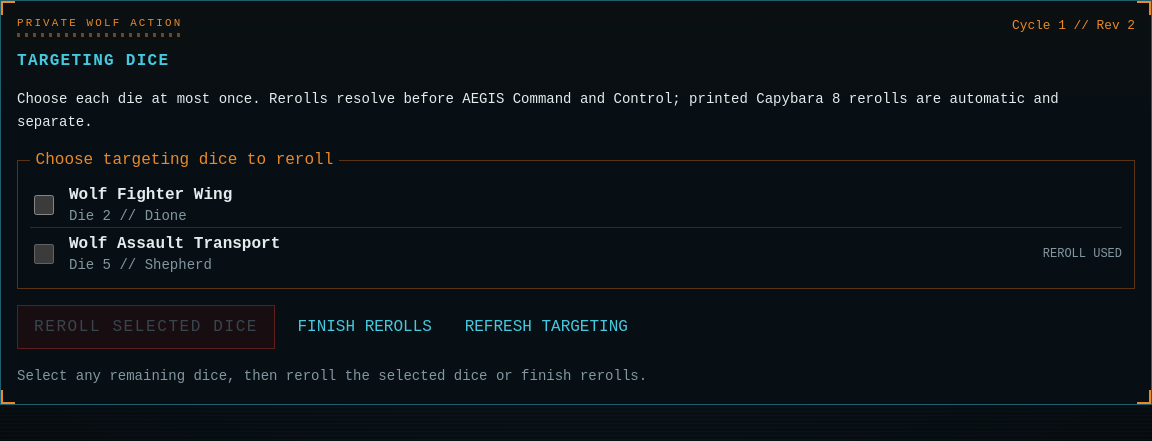
Test: shows current dice, keeps used dice disabled, and submits only selected indexes
Expected: the heading "Targeting dice" is shown, 17,51 -> 182,72
Expected: the text "Die 2 // Dione" is shown, 69,208 -> 187,224
Step 1. Click the checkbox labelled "Wolf Fighter Wing Die 2 // Dione" → point(44, 205), box 34,195 -> 54,215
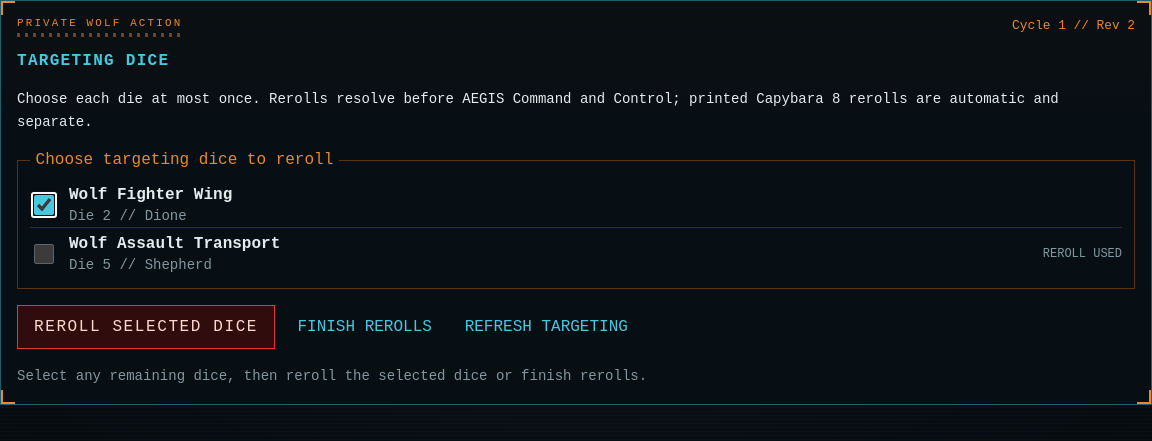
Step 2. Click the button "Reroll selected dice" → point(146, 327), box 17,305 -> 275,349
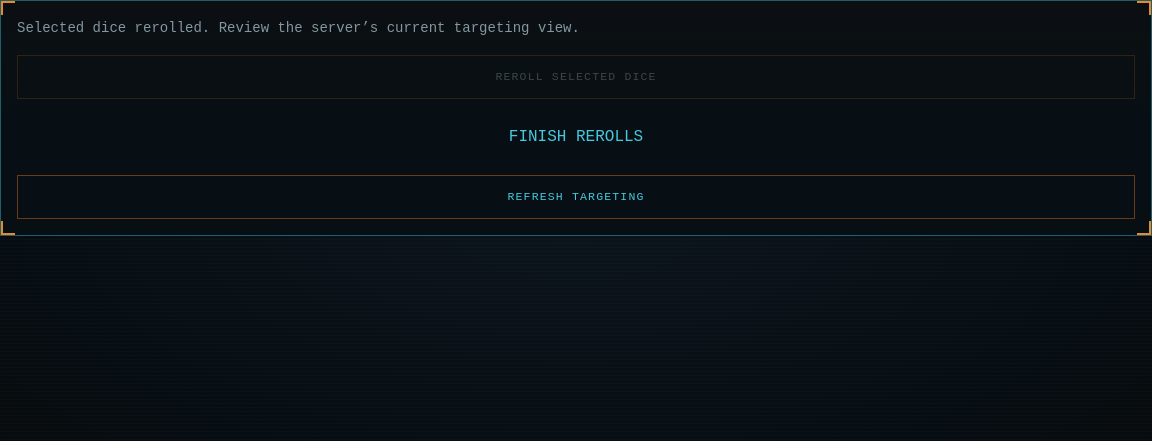
Result: the text "Selected dice rerolled. Review the server’s current targeting view." is shown at 17,20 -> 580,36
